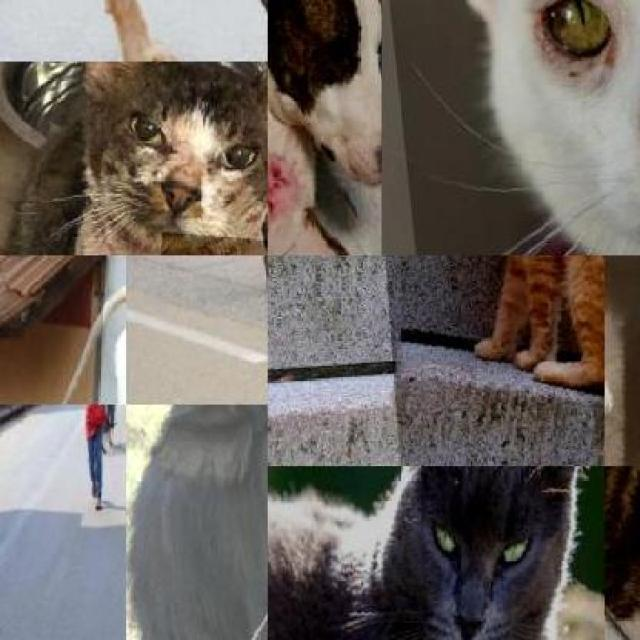buffalo: (126, 404, 267, 640)
cat: (381, 0, 640, 255), (268, 466, 604, 640), (0, 62, 268, 255), (369, 256, 605, 467)
cow: (82, 256, 126, 404)
dog: (267, 0, 381, 255), (0, 0, 268, 62)
injured: (268, 150, 298, 256)
